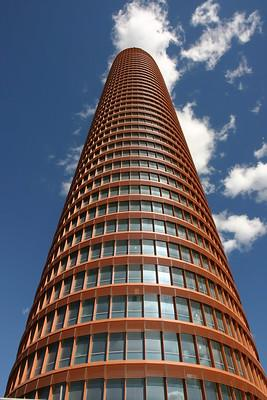building: (4, 44, 267, 400)
